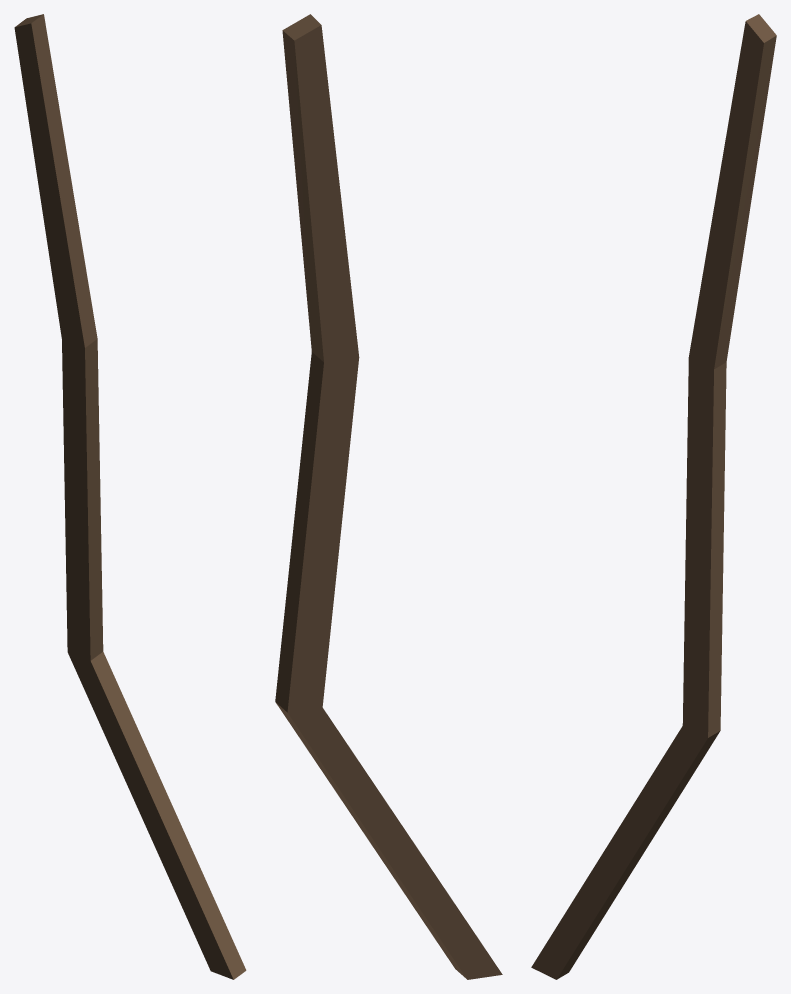
Rendered from Cave_Lair_Rope_Scrap_Hanging_01.fbx.
3 views of the same model, side by side, from view 1: azimuth 90°, elevation 25°; view 2: azimuth 150°, elevation 25°; view 3: azimuth 270°, elevation 25° (orthographic). The views are drawn at different scales.
Parts seen in each view (by area): view 1: Cave_Lair_Rope_Scrap_Hanging_01; view 2: Cave_Lair_Rope_Scrap_Hanging_01; view 3: Cave_Lair_Rope_Scrap_Hanging_01.
Boxes of the visible parts, x1=… form: Cave_Lair_Rope_Scrap_Hanging_01: x1=14, y1=14, x2=246, y2=979; Cave_Lair_Rope_Scrap_Hanging_01: x1=275, y1=14, x2=502, y2=979; Cave_Lair_Rope_Scrap_Hanging_01: x1=531, y1=14, x2=776, y2=979.
Size of the model in its own units: 0.2794 by 1.9 by 0.4302.
